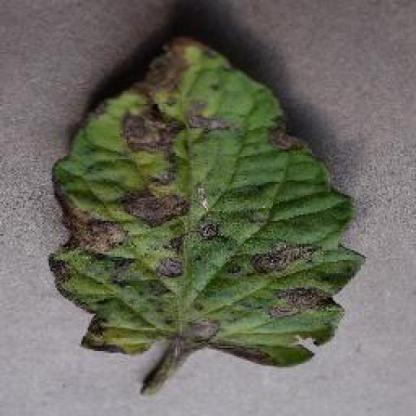Tomato_Blight: (52, 38, 362, 363)
